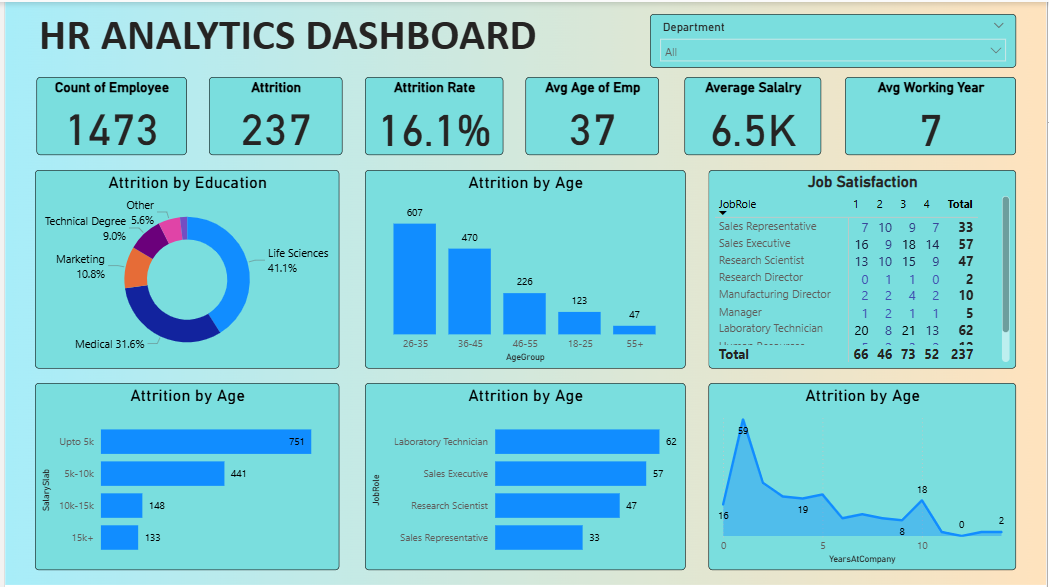

Layout of this report page (visuals, bound fields, positions):
{"tool":"powerbi","page":{"name":"Page 1","canvas":[1280,720],"ordinal":0},"visuals":[{"type":"card","title":"Count of Employee","fields":{"Values":["CountNonNull(HR_Analytics.EmpID)"]},"box":[38.7,91.3,164,96],"z":0},{"type":"card","title":"Attrition","fields":{"Values":["Sum(HR_Analytics.Attrition Count)"]},"box":[230.7,91.3,164,96],"z":1000},{"type":"card","title":"Attrition Rate","fields":{"Values":["HR_Analytics.AttritionRate"]},"box":[442,92,170,96],"z":2000},{"type":"card","title":"Avg Age of Emp","fields":{"Values":["Avg(HR_Analytics.Age)"]},"box":[640,92,164,96],"z":3000},{"type":"card","title":"Average Salalry","fields":{"Values":["Avg(HR_Analytics.MonthlyIncome)"]},"box":[836,92,168,96],"z":4000},{"type":"card","title":"Avg Working Year","fields":{"Values":["Avg(HR_Analytics.YearsAtCompany)"]},"box":[1032,92,210,96],"z":5000},{"type":"donutChart","title":"Attrition by Education","fields":{"Category":["HR_Analytics.EducationField"],"Y":["CountNonNull(HR_Analytics.Attrition)"]},"box":[36,206,374,244],"z":6000},{"type":"columnChart","title":"Attrition by Age","fields":{"Category":["HR_Analytics.AgeGroup"],"Y":["CountNonNull(HR_Analytics.Attrition)"]},"box":[442,206,394,244],"z":7000},{"type":"pivotTable","title":"Job Satisfaction","fields":{"Rows":["HR_Analytics.JobRole"],"Columns":["HR_Analytics.JobSatisfaction"],"Values":["Sum(HR_Analytics.Attrition Count)"]},"box":[864,206,378,244],"z":8000},{"type":"barChart","title":"Attrition by Age","fields":{"Category":["HR_Analytics.SalarySlab"],"Y":["CountNonNull(HR_Analytics.Attrition)"]},"box":[36,468,374,230],"z":9000},{"type":"barChart","title":"Attrition by Age","fields":{"Category":["HR_Analytics.JobRole"],"Y":["Sum(HR_Analytics.Attrition Count)"]},"box":[442,468,394,230],"z":10000},{"type":"areaChart","title":"Attrition by Age","fields":{"Category":["HR_Analytics.YearsAtCompany"],"Y":["Sum(HR_Analytics.Attrition Count)"]},"box":[864,468,378,230],"z":11000},{"type":"slicer","fields":{"Values":["HR_Analytics.Department"]},"box":[792,14,450,66],"z":12000},{"type":"textbox","box":[36,2,756,90],"z":12001}]}

Visuals, with their boxes in screenshot pixels (x1, y1, x2, y2), scaled from the page's 1280x720 canvas onto the 1049x587 screenshot:
"Count of Employee" card: <region>32, 74, 166, 153</region>
"Attrition" card: <region>189, 74, 323, 153</region>
"Attrition Rate" card: <region>362, 75, 502, 153</region>
"Avg Age of Emp" card: <region>524, 75, 659, 153</region>
"Average Salalry" card: <region>685, 75, 823, 153</region>
"Avg Working Year" card: <region>846, 75, 1018, 153</region>
"Attrition by Education" donutChart: <region>30, 168, 336, 367</region>
"Attrition by Age" columnChart: <region>362, 168, 685, 367</region>
"Job Satisfaction" pivotTable: <region>708, 168, 1018, 367</region>
"Attrition by Age" barChart: <region>30, 382, 336, 569</region>
"Attrition by Age" barChart: <region>362, 382, 685, 569</region>
"Attrition by Age" areaChart: <region>708, 382, 1018, 569</region>
slicer - HR_Analytics.Department: <region>649, 11, 1018, 65</region>
textbox: <region>30, 2, 649, 75</region>
